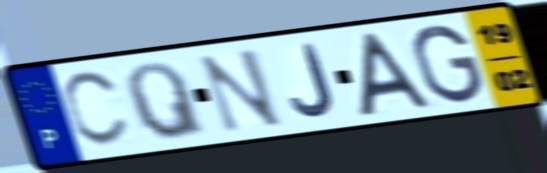A: (357, 29, 437, 120)
C: (60, 67, 133, 150)
G: (410, 22, 486, 106)
J: (288, 41, 339, 121)
N: (195, 46, 287, 136)
Q: (123, 59, 210, 142)
